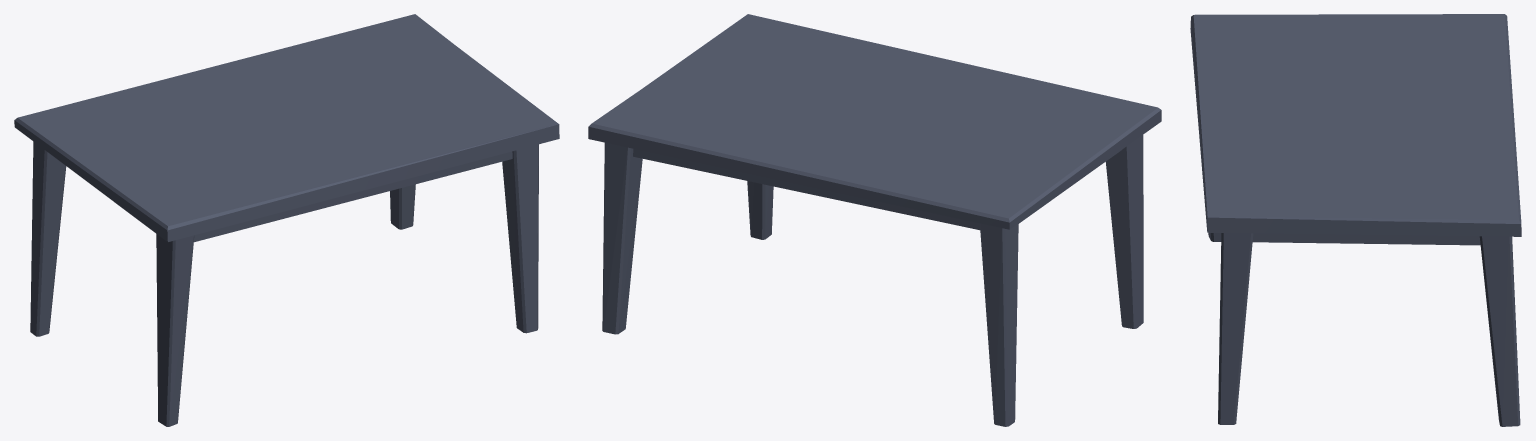
Rendered from DiningTable.FBX.
3 renders of one model, left to right at view 1: azimuth 30°, elevation 25°; view 2: azimuth 150°, elevation 25°; view 3: azimuth 270°, elevation 25°, orthographic. The views are drawn at different scales.
Visible parts, largest first — view 1: DiningTable; view 2: DiningTable; view 3: DiningTable.
Part boxes in pixels (box(x1,y1,x2,y2)): DiningTable: box(14, 14, 559, 426); DiningTable: box(588, 14, 1161, 426); DiningTable: box(1190, 14, 1521, 426).
Size of the model in its own units: 203 by 100 by 136.
